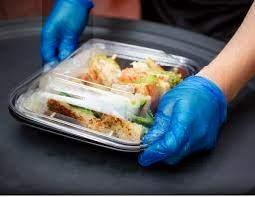apron: (141, 67, 226, 170), (42, 0, 93, 68)
